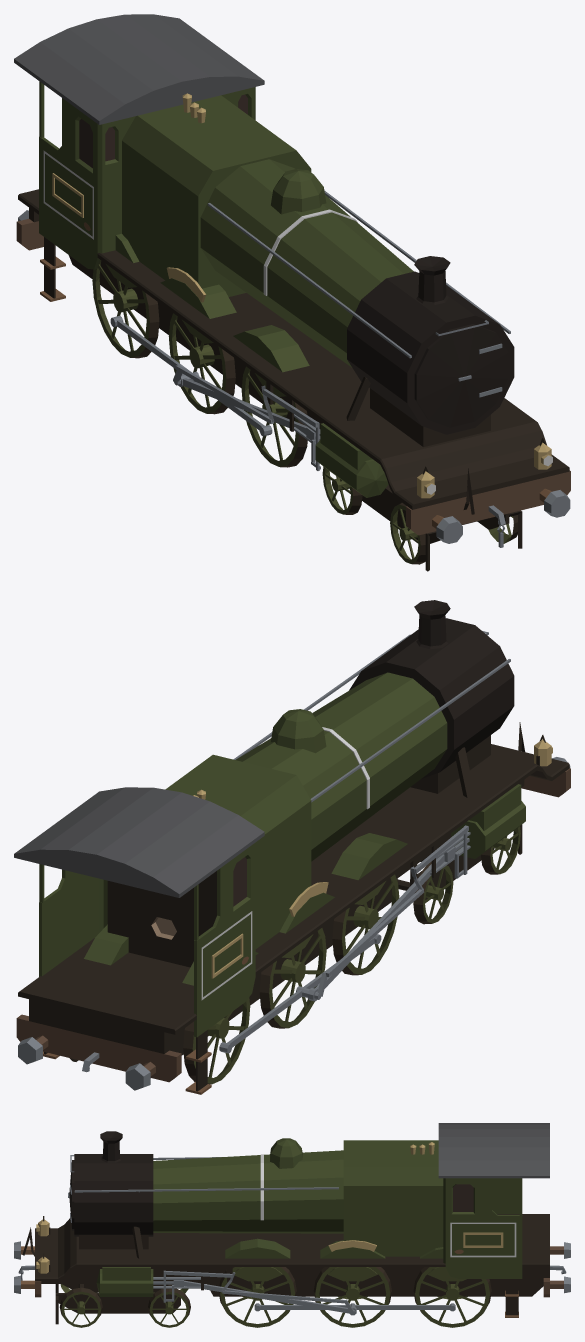
Rendered from tender-steam-locomotive-8e2a82.glb.
The picture shows the model from 3 angles, top to bottom: view 1: azimuth 30°, elevation 25°; view 2: azimuth 150°, elevation 25°; view 3: azimuth 270°, elevation 25°; orthographic projection. The views are drawn at different scales.
Parts seen in each view (by area): view 1: body, wheel-3-mesh, wheel-2-mesh, wheel-1-mesh, bogie-mesh, bogie-wheel-1-mesh, rods-mesh, bogie-wheel-2-mesh, conrods-mesh; view 2: body, wheel-2-mesh, wheel-1-mesh, wheel-3-mesh, bogie-wheel-2-mesh, rods-mesh, conrods-mesh, bogie-wheel-1-mesh, eccentric-rods-mesh, bogie-mesh; view 3: body, wheel-2-mesh, bogie-mesh, wheel-1-mesh, wheel-3-mesh, rods-mesh, bogie-wheel-1-mesh, conrods-mesh, bogie-wheel-2-mesh, eccentric-rods-mesh, radius-rods-mesh.
Part boxes in pixels (box(x1,y1,x2,y2)): body: box(14, 14, 570, 547); wheel-3-mesh: box(92, 260, 159, 358); wheel-2-mesh: box(168, 313, 235, 414); wheel-1-mesh: box(241, 366, 307, 467); bogie-mesh: box(350, 485, 522, 571); bogie-wheel-1-mesh: box(390, 502, 517, 564); rods-mesh: box(110, 315, 272, 436); bogie-wheel-2-mesh: box(322, 466, 362, 514); conrods-mesh: box(178, 373, 307, 434); body: box(14, 600, 570, 1094); wheel-2-mesh: box(259, 928, 326, 1028); wheel-1-mesh: box(332, 874, 399, 975); wheel-3-mesh: box(183, 997, 250, 1084); bogie-wheel-2-mesh: box(397, 861, 453, 924); rods-mesh: box(219, 934, 381, 1053); conrods-mesh: box(307, 854, 444, 1001); bogie-wheel-1-mesh: box(481, 826, 520, 874); eccentric-rods-mesh: box(325, 888, 424, 977); bogie-mesh: box(410, 824, 522, 899); body: box(14, 1123, 570, 1317); wheel-2-mesh: box(313, 1267, 391, 1327); bogie-mesh: box(55, 1284, 180, 1324); wheel-1-mesh: box(218, 1267, 296, 1327); wheel-3-mesh: box(413, 1267, 491, 1327); rods-mesh: box(254, 1303, 455, 1314); bogie-wheel-1-mesh: box(59, 1284, 102, 1327); conrods-mesh: box(184, 1280, 356, 1315); bogie-wheel-2-mesh: box(148, 1284, 190, 1327); eccentric-rods-mesh: box(222, 1290, 346, 1303); radius-rods-mesh: box(164, 1270, 232, 1277).
Size of the model in its own units: 2.75 by 4.22 by 12.
